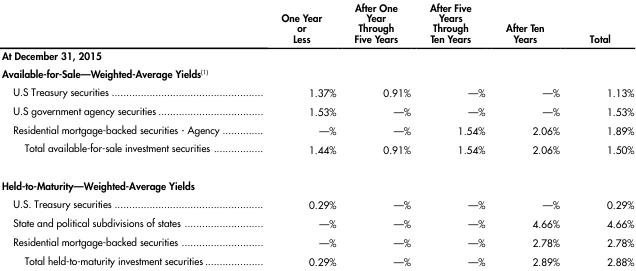table: (0, 0, 633, 267)
table column: (0, 0, 249, 267), (249, 0, 344, 267), (494, 0, 573, 267), (344, 0, 419, 267), (419, 0, 494, 267), (573, 0, 633, 267)
table column header: (0, 0, 633, 46)
table projected row header: (0, 167, 633, 194), (0, 46, 633, 64), (0, 64, 633, 81)
table row: (0, 0, 633, 46), (0, 138, 633, 167), (0, 167, 633, 194), (0, 81, 633, 100), (0, 100, 633, 119), (0, 119, 633, 138), (0, 194, 633, 213), (0, 213, 633, 232), (0, 232, 633, 251), (0, 46, 633, 64), (0, 64, 633, 81), (0, 251, 633, 267)
